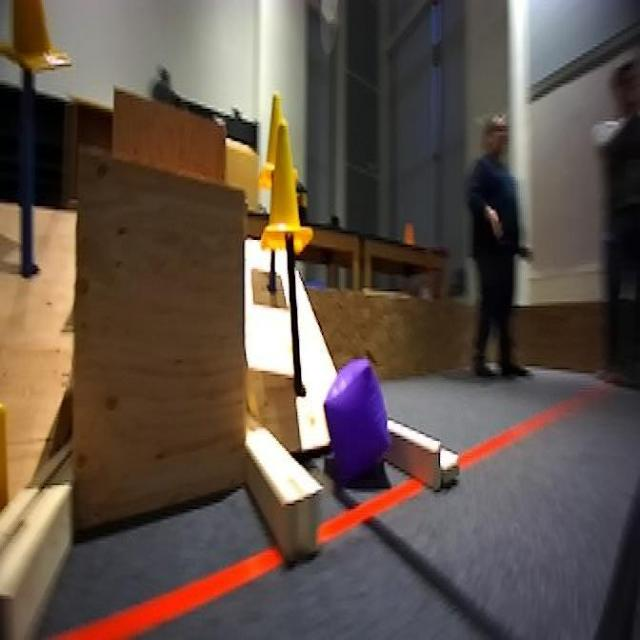frc_cone: (259, 126, 310, 262), (8, 0, 74, 80), (262, 88, 283, 189)
frc_cube: (321, 357, 399, 482)
